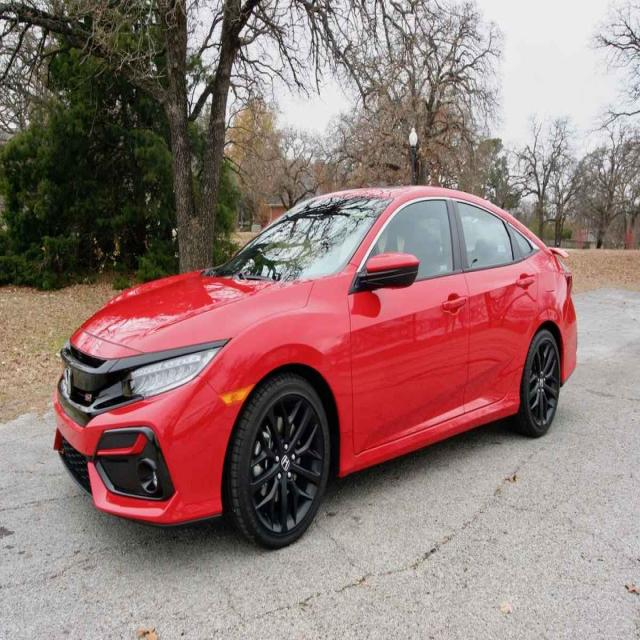car: (55, 187, 580, 555)
